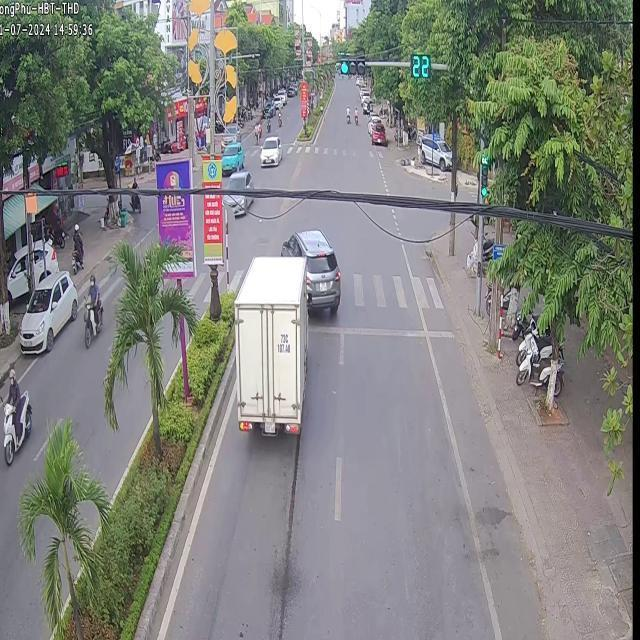car: (233, 256, 306, 434), (283, 229, 340, 318), (223, 170, 250, 208), (220, 139, 241, 171), (260, 138, 279, 163)
green_light: (338, 56, 364, 74), (478, 151, 487, 198)
motobike: (343, 103, 349, 125), (352, 104, 357, 126)
stop_line: (310, 323, 454, 337)
